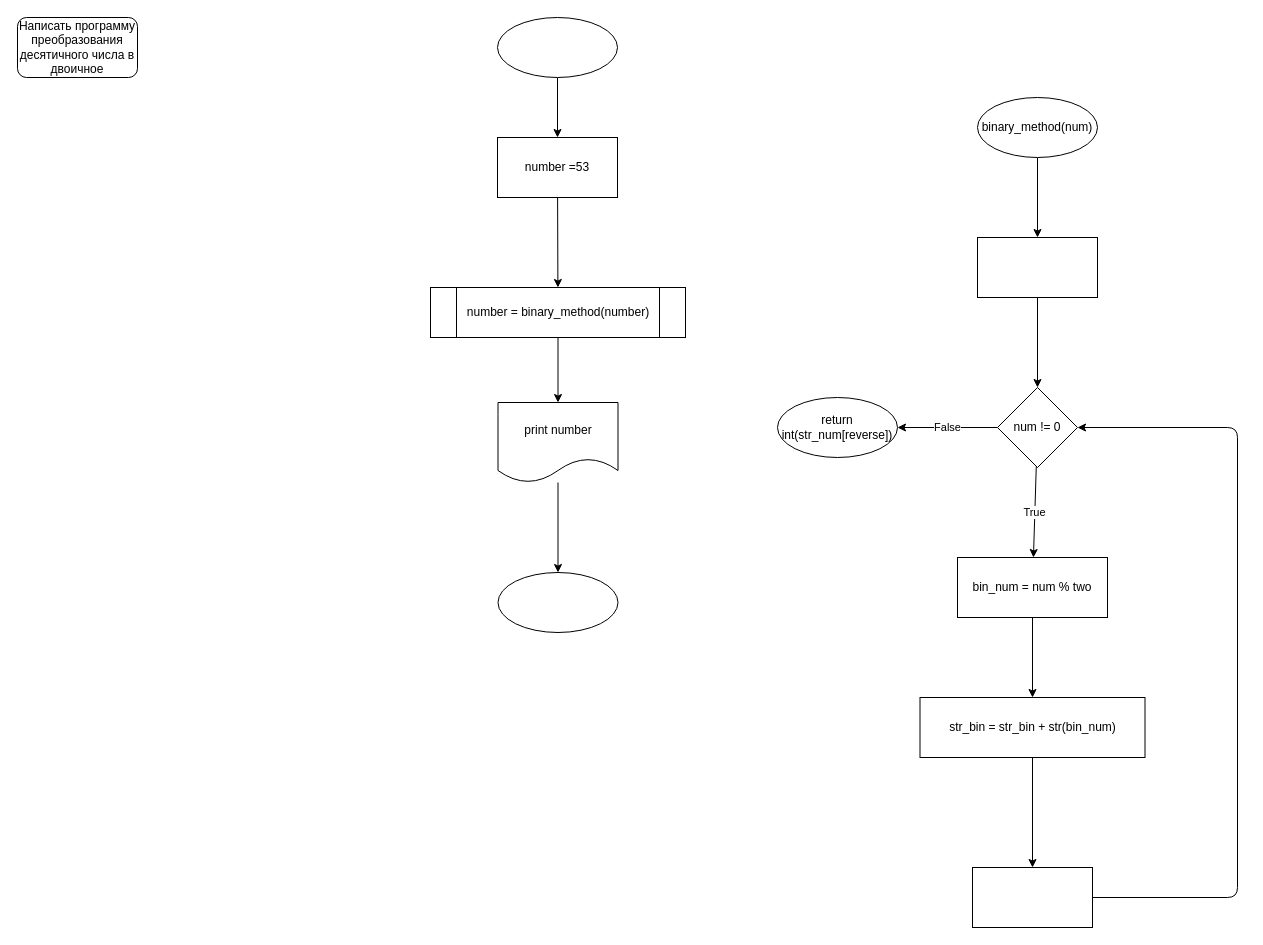
This 1263x945 diagram has some shape labels left out. The centre of each missing label's shape, as x and y in pixels:
"End" goes at [557,602].
"num //= two" goes at [1032,897].
"Start" goes at [557,47].
"two = 2" goes at [1037,267].
